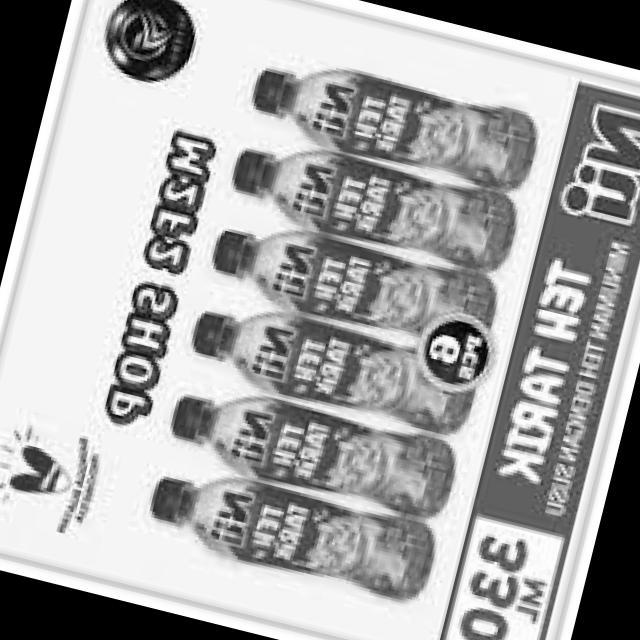good: (190, 199, 516, 371), (232, 33, 556, 202), (214, 114, 537, 278), (137, 447, 444, 619), (181, 292, 494, 448), (160, 369, 462, 521)
